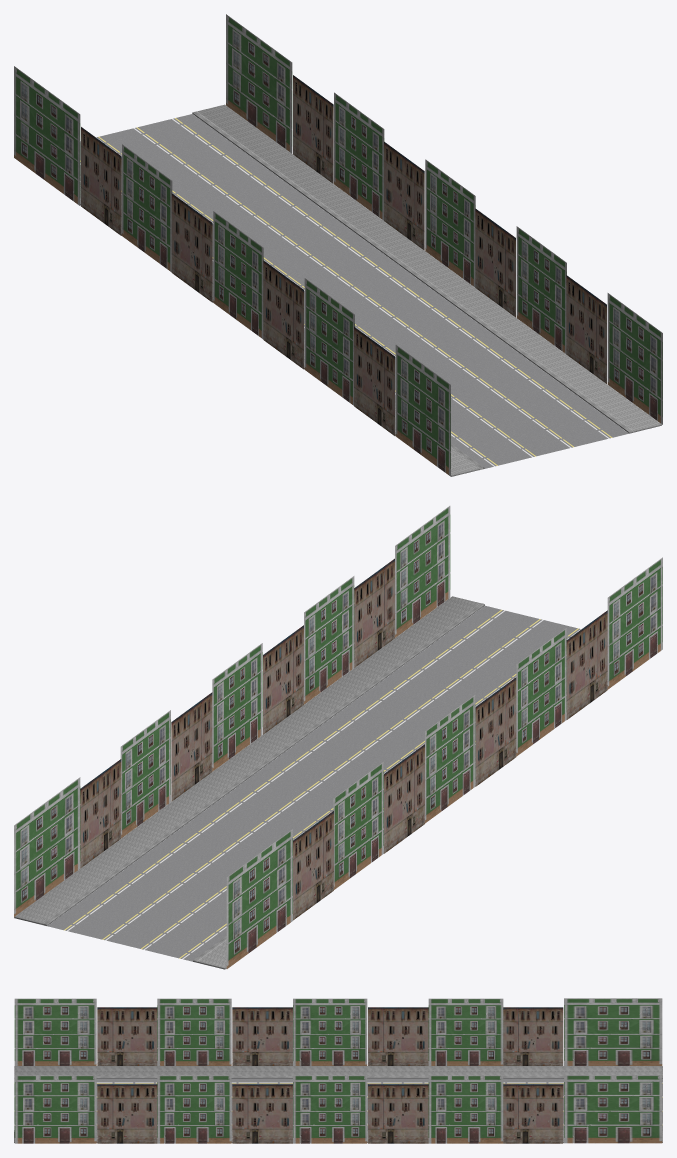
Rendered from Calle B.FBX.
The picture shows the model from 3 angles, top to bottom: view 1: azimuth 30°, elevation 25°; view 2: azimuth 150°, elevation 25°; view 3: azimuth 270°, elevation 25°; orthographic projection. The views are drawn at different scales.
Visible parts, largest first — view 1: Plane003, ChamferBox031, Box065, Box076, Box073, Box079, Box070, Box075, Box077, Box063, Box068, Box062 (+9 smaller); view 2: Plane003, ChamferBox031, Box065, Box076, Box073, Box079, Box068, Box075, Box077, Box070, Box062, Box063 (+9 smaller); view 3: Box076, Box065, ChamferBox033, Box079, Box073, Box063, Box075, Box077, Box062, Box068, Box070, Box064 (+9 smaller).
Boxes of the visible parts, box(x1,y1,x2,y2) form: Plane003: box(80, 114, 628, 468); ChamferBox031: box(198, 104, 661, 432); Box065: box(14, 66, 80, 205); Box076: box(226, 14, 292, 153); Box073: box(395, 345, 450, 476); Box079: box(607, 293, 662, 424); Box070: box(213, 211, 263, 338); Box075: box(425, 159, 475, 287); Box077: box(516, 226, 566, 353); Box063: box(334, 92, 384, 220); Box068: box(304, 278, 354, 405); Box062: box(122, 144, 172, 271); Plane003: box(47, 606, 580, 961); ChamferBox031: box(14, 596, 479, 924); Box065: box(226, 829, 292, 968); Box076: box(14, 777, 80, 917); Box073: box(607, 557, 662, 689); Box079: box(395, 506, 450, 637); Box068: box(516, 628, 566, 756); Box075: box(212, 643, 262, 771); Box077: box(304, 576, 354, 704); Box070: box(425, 695, 475, 823); Box062: box(333, 762, 383, 889); Box063: box(120, 710, 170, 837); Box076: box(564, 1075, 662, 1143); Box065: box(564, 998, 662, 1065); ChamferBox033: box(14, 1066, 662, 1075); Box079: box(14, 1075, 96, 1143); Box073: box(14, 998, 96, 1065); Box063: box(428, 1075, 503, 1143); Box075: box(293, 1075, 367, 1143); Box077: box(157, 1075, 231, 1143); Box062: box(428, 998, 503, 1065); Box068: box(157, 998, 231, 1065); Box070: box(293, 998, 367, 1065); Box064: box(368, 1084, 428, 1143).
Size of the model in its own units: 1805 by 745 by 6419.
5 materials, 5 textured.
